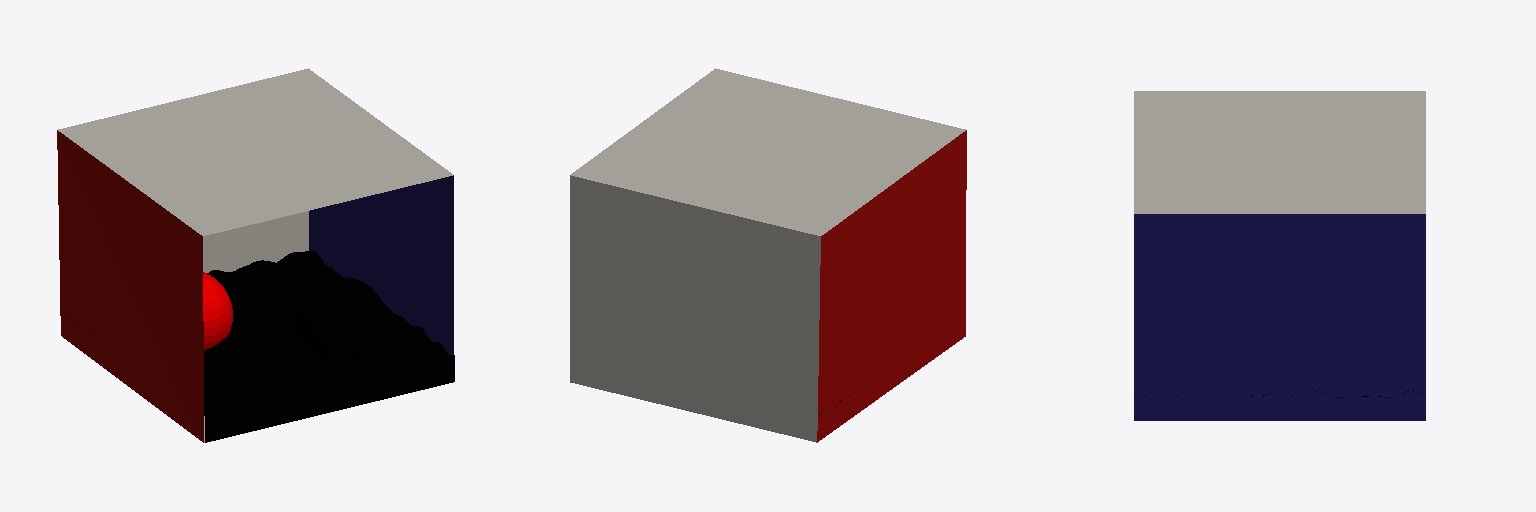
File: CornellBox-Water.obj
3 renders of one model, left to right at view 1: azimuth 30°, elevation 25°; view 2: azimuth 150°, elevation 25°; view 3: azimuth 270°, elevation 25°, orthographic.
Visible parts, largest first — view 1: ceiling, leftWall, water, rightWall, rightSphere, backWall, leftSphere; view 2: backWall, ceiling, leftWall; view 3: rightWall, ceiling.
Boxes of the visible parts, x1=… form: ceiling: x1=58, y1=68, x2=452, y2=235; leftWall: x1=57, y1=130, x2=203, y2=442; water: x1=67, y1=250, x2=454, y2=442; rightWall: x1=309, y1=175, x2=453, y2=354; rightSphere: x1=295, y1=277, x2=387, y2=359; backWall: x1=203, y1=211, x2=308, y2=272; leftSphere: x1=203, y1=272, x2=232, y2=349; backWall: x1=570, y1=175, x2=820, y2=442; ceiling: x1=571, y1=68, x2=965, y2=235; leftWall: x1=817, y1=130, x2=966, y2=442; rightWall: x1=1134, y1=214, x2=1425, y2=420; ceiling: x1=1134, y1=91, x2=1425, y2=213.
Bounding box in the file's own units: 2.02 × 1.59 × 2.03.